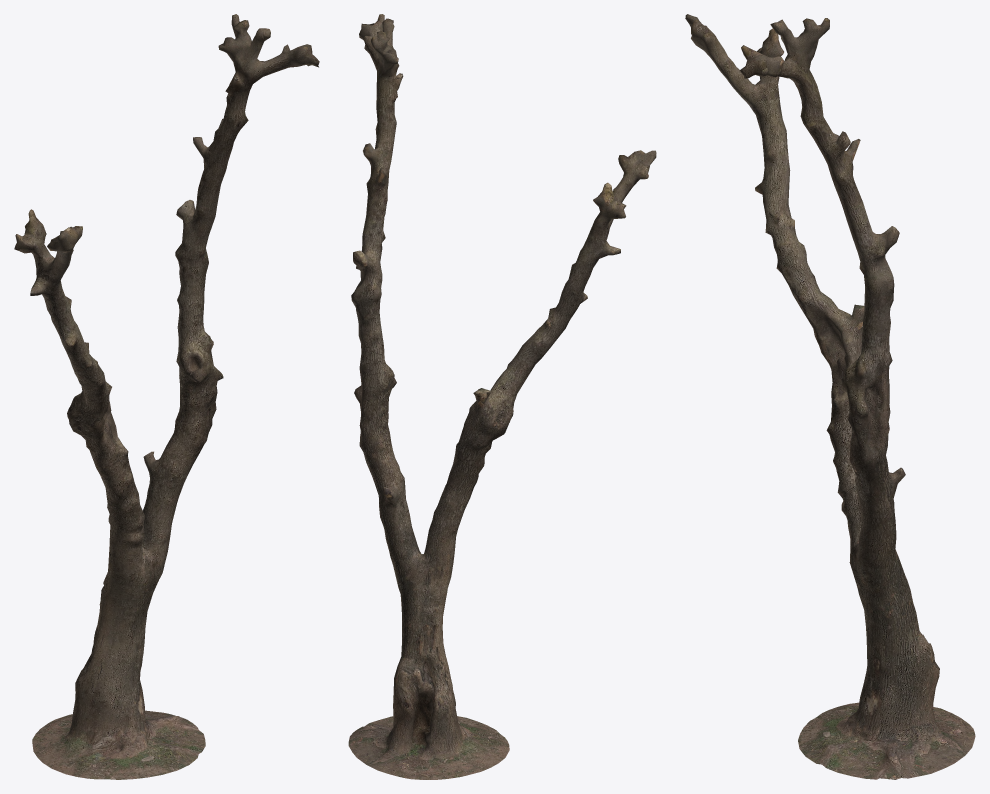
Rendered from pruned_b.glb.
The picture shows the model from 3 angles, left to right: view 1: azimuth 30°, elevation 25°; view 2: azimuth 150°, elevation 25°; view 3: azimuth 270°, elevation 25°; orthographic projection. The views are drawn at different scales.
Visible parts, largest first — view 1: prunedB_S_Pruned_Tree_vcrwcdqfa_lod3_Var2_LOD0; view 2: prunedB_S_Pruned_Tree_vcrwcdqfa_lod3_Var2_LOD0; view 3: prunedB_S_Pruned_Tree_vcrwcdqfa_lod3_Var2_LOD0.
Boxes of the visible parts, x1,y1,x2,y2 form: prunedB_S_Pruned_Tree_vcrwcdqfa_lod3_Var2_LOD0: (14,14,319,779); prunedB_S_Pruned_Tree_vcrwcdqfa_lod3_Var2_LOD0: (348,14,656,779); prunedB_S_Pruned_Tree_vcrwcdqfa_lod3_Var2_LOD0: (685,14,975,779).
Size of the model in its own units: 5.02 by 11.94 by 4.09.
1 material, 1 textured.
